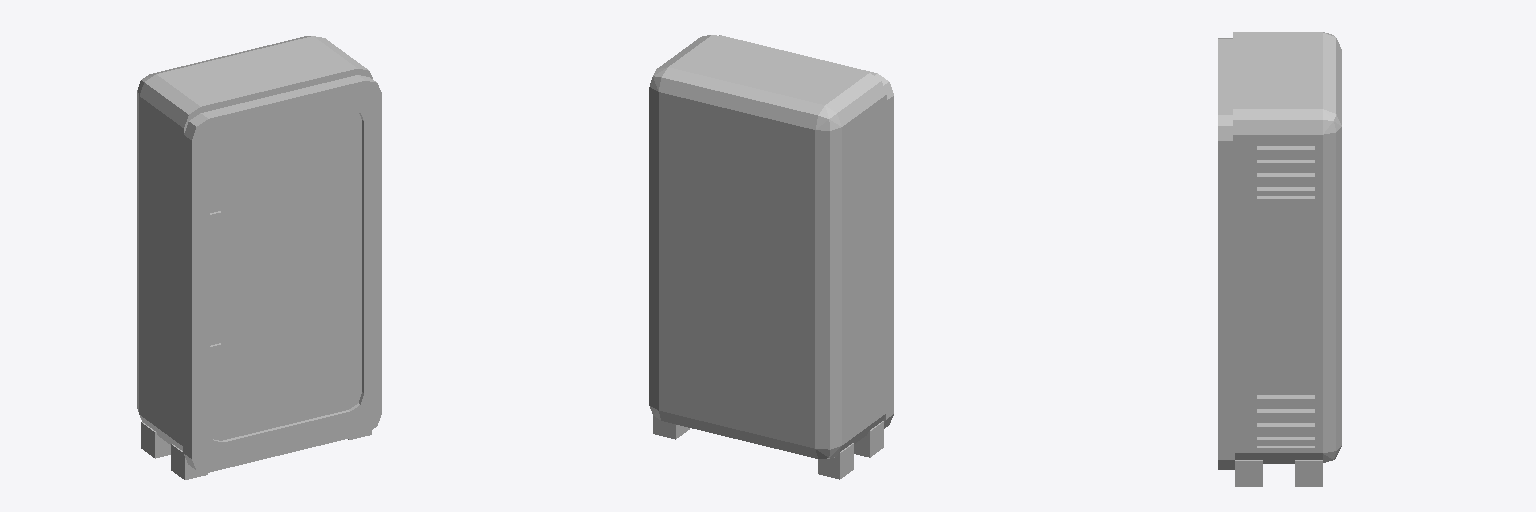
File: Can Fridge.obj
The picture shows the model from 3 angles: view 1: azimuth 30°, elevation 25°; view 2: azimuth 150°, elevation 25°; view 3: azimuth 270°, elevation 25°; orthographic projection.
Visible parts, largest first — view 1: Environment_CanFridge_Door, Environment_CanFridge; view 2: Environment_CanFridge, Environment_CanFridge_Door; view 3: Environment_CanFridge, Environment_CanFridge_Door.
Part boxes in pixels (left/top/right/bottom): Environment_CanFridge_Door: left=183, top=75, right=381, bottom=472; Environment_CanFridge: left=137, top=36, right=372, bottom=479; Environment_CanFridge: left=649, top=35, right=886, bottom=479; Environment_CanFridge_Door: left=719, top=35, right=893, bottom=428; Environment_CanFridge: left=1233, top=32, right=1341, bottom=486; Environment_CanFridge_Door: left=1218, top=38, right=1234, bottom=469.
Size of the model in its own units: 2.36 by 4.39 by 1.33.